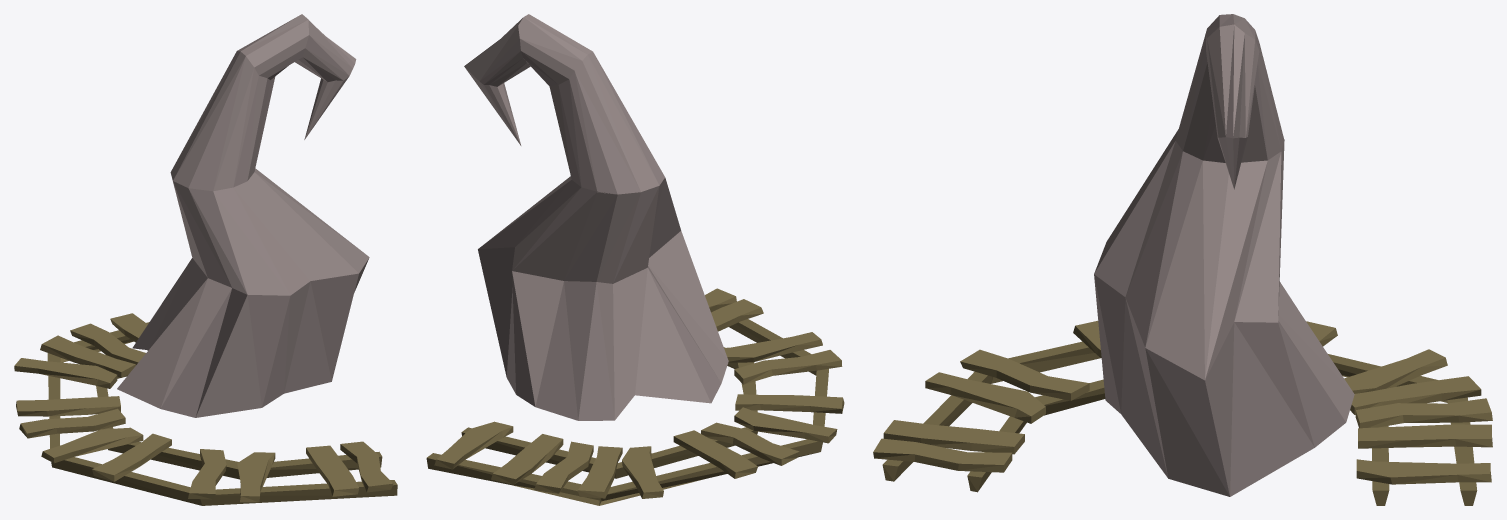
Rendered from obj_greatrunestone_uppermid_0.obj.
The picture shows the model from 3 angles, left to right: view 1: azimuth 30°, elevation 25°; view 2: azimuth 150°, elevation 25°; view 3: azimuth 270°, elevation 25°; orthographic projection. The views are drawn at different scales.
Bounding box in the file's own units: 3.73 × 3.96 × 4.62.
